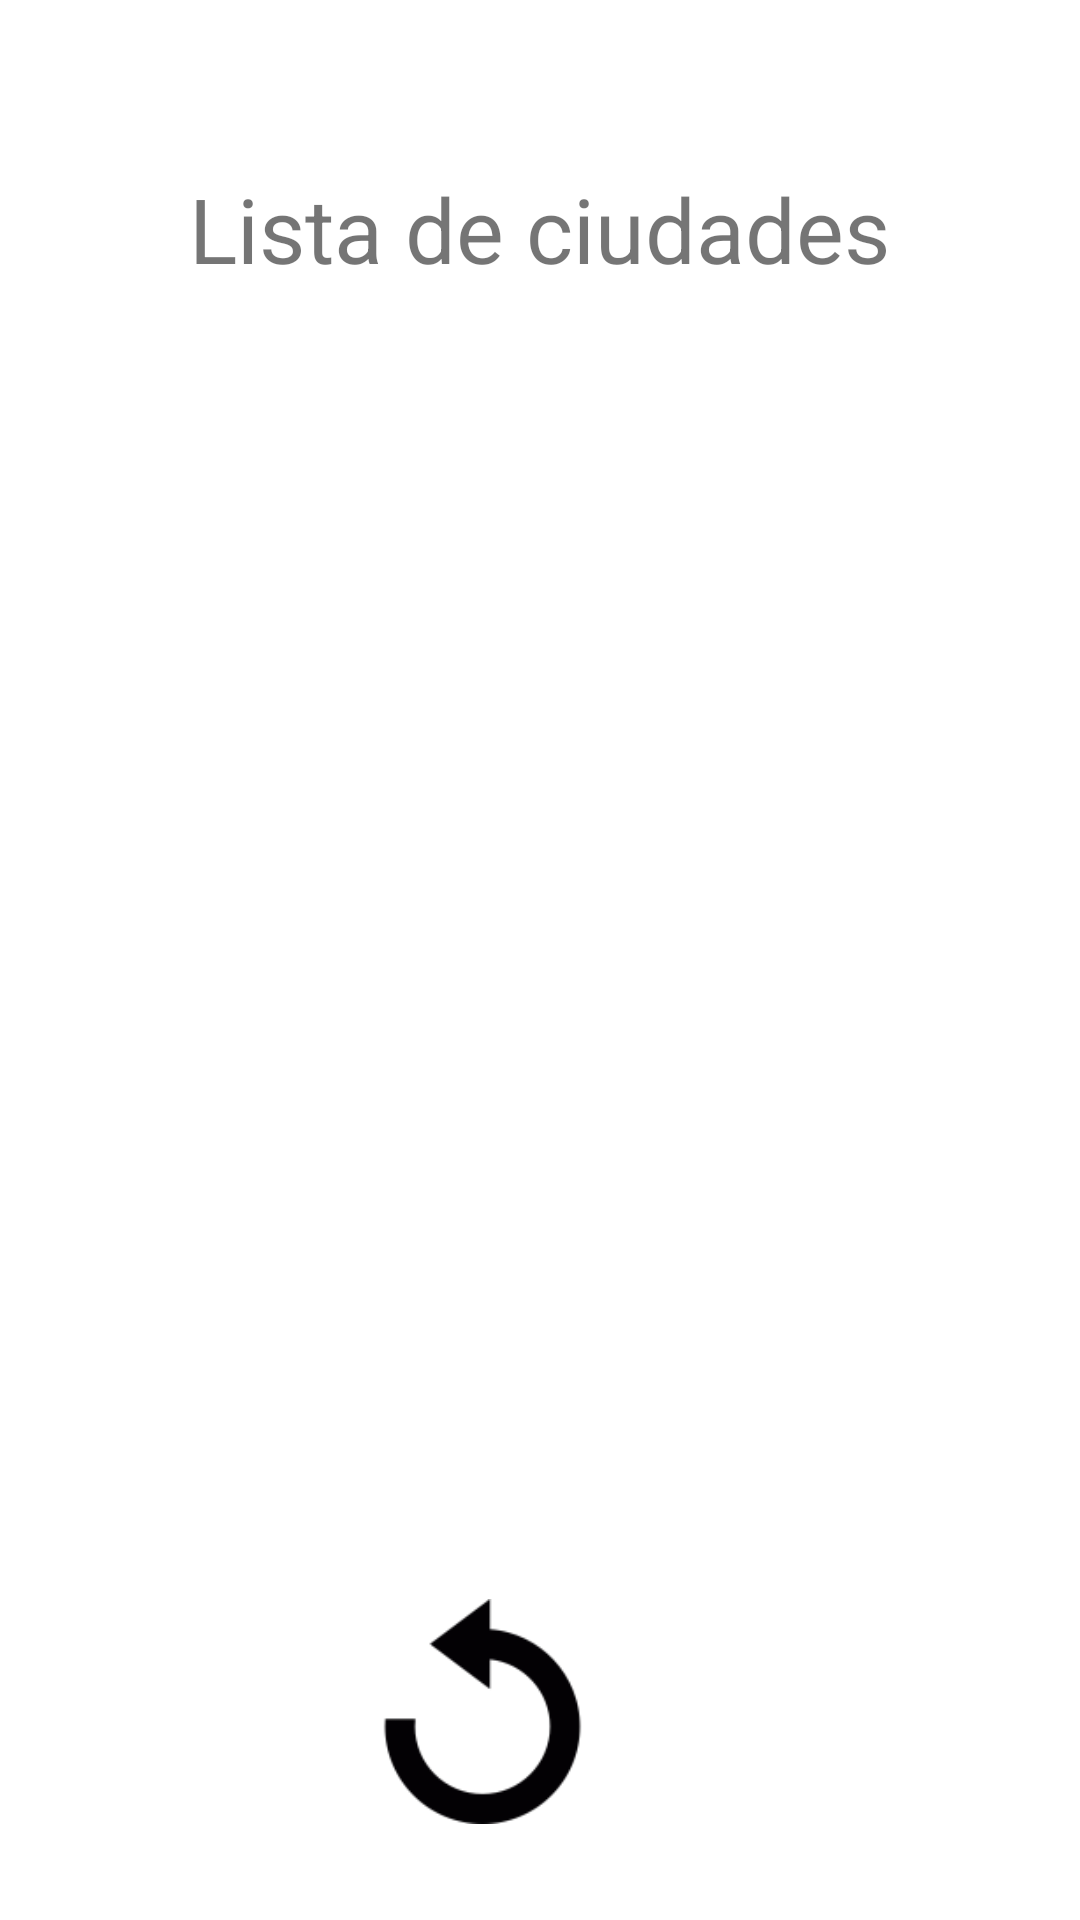

Icon bounding boxes for this 1080×1920 phone screenshot, format (x1, y1, x2, y2):
reload: (384, 1599, 581, 1824)
